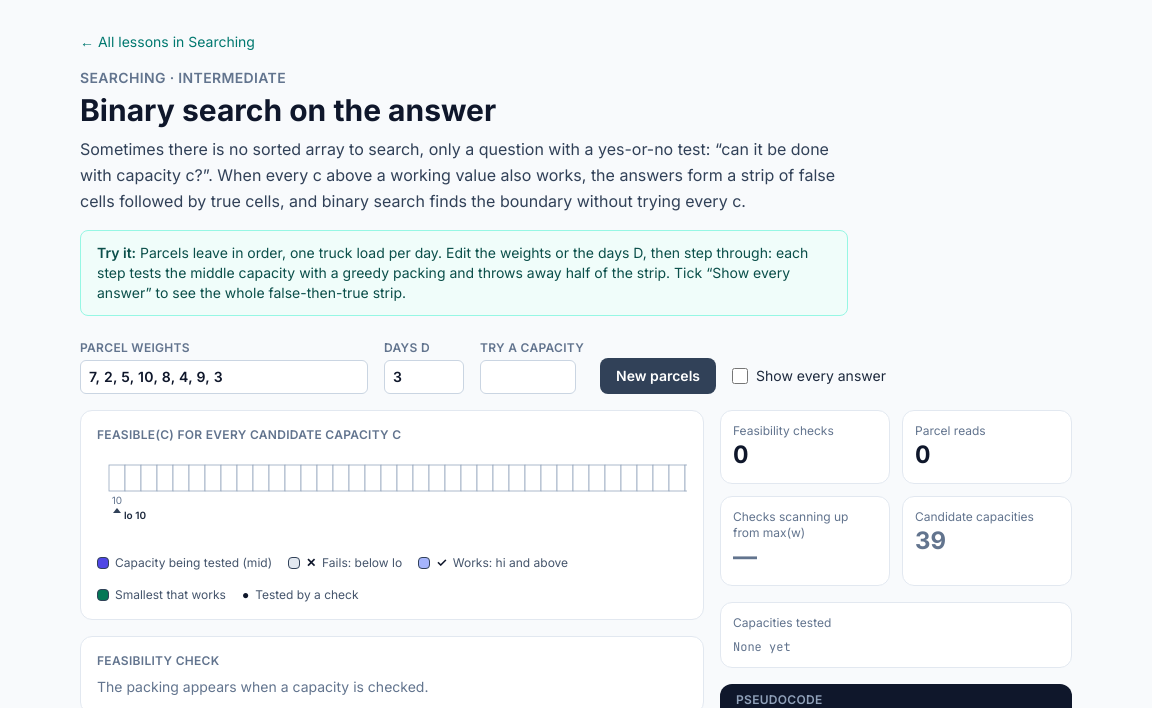
Test: binary search on the answer lesson › changing D reruns the search
Replace the text in the number field labelled "Days D" with "2". click: (424, 377)
box: 384,360 -> 464,394
(page scrolled)
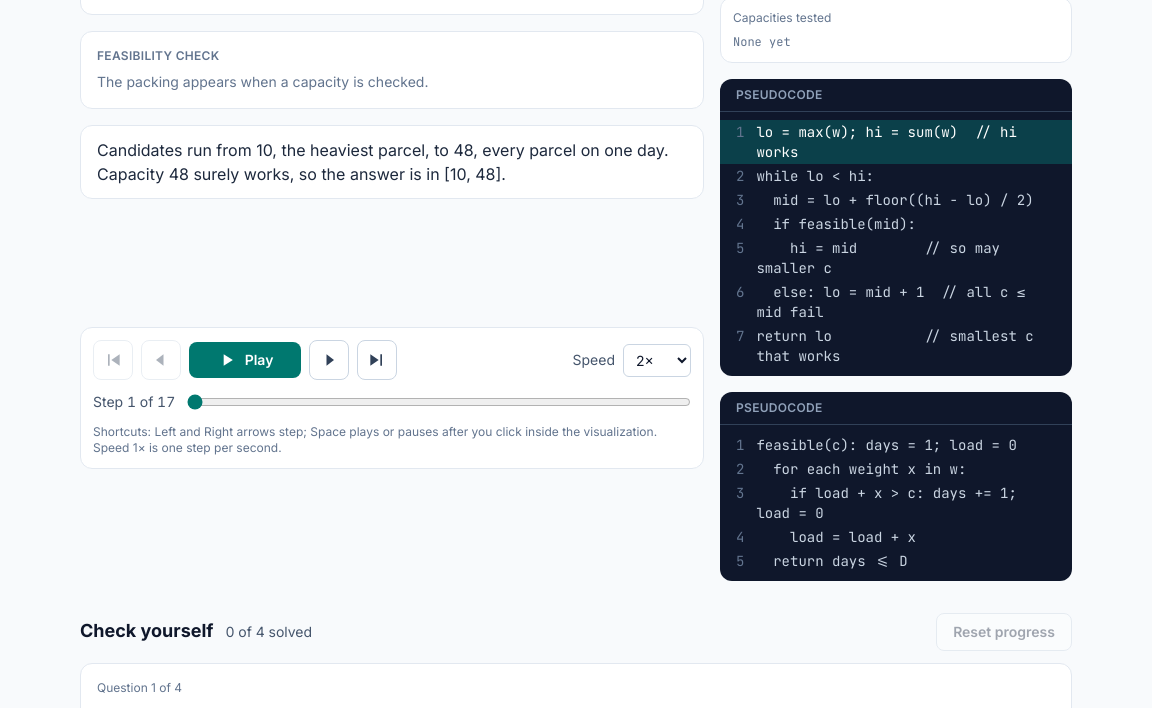
Click the button named "Last step". click: (377, 360)
box: 357,340 -> 397,380
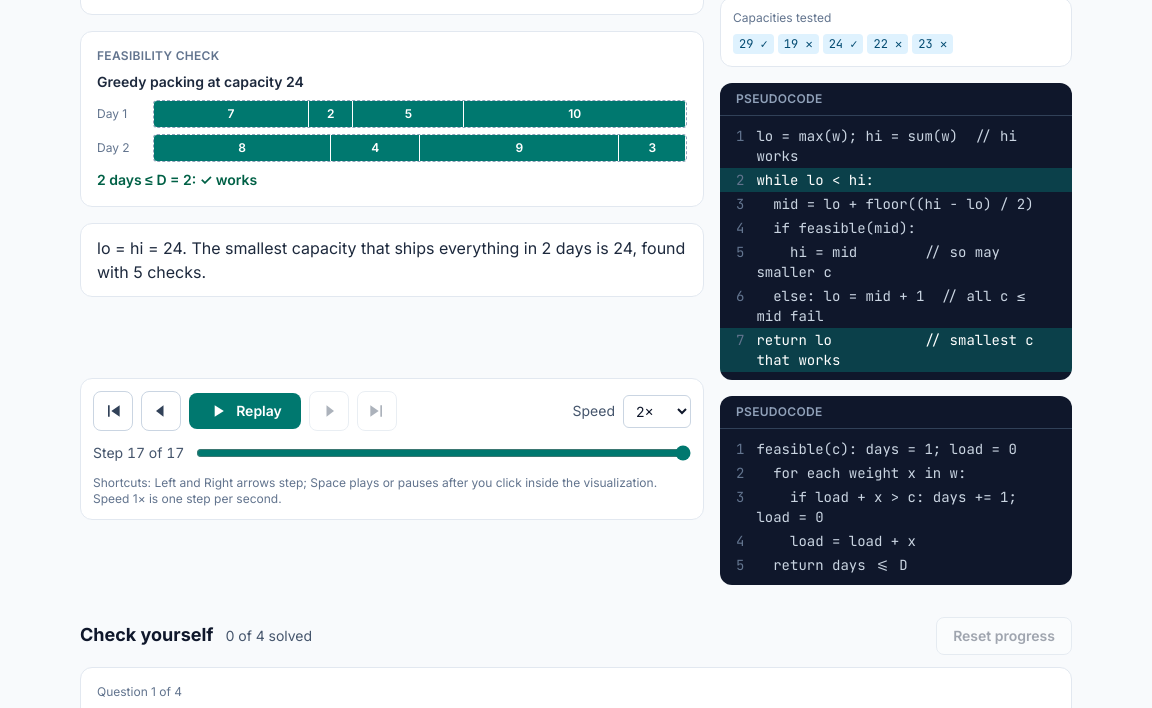
Now the text "in 2 days is 24" is shown, box 97,238 -> 685,282
